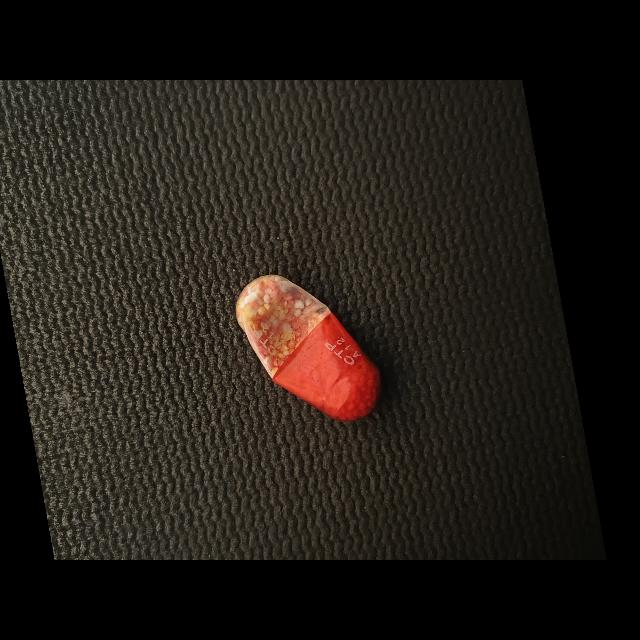Defective Capsule: (236, 275, 381, 422)
